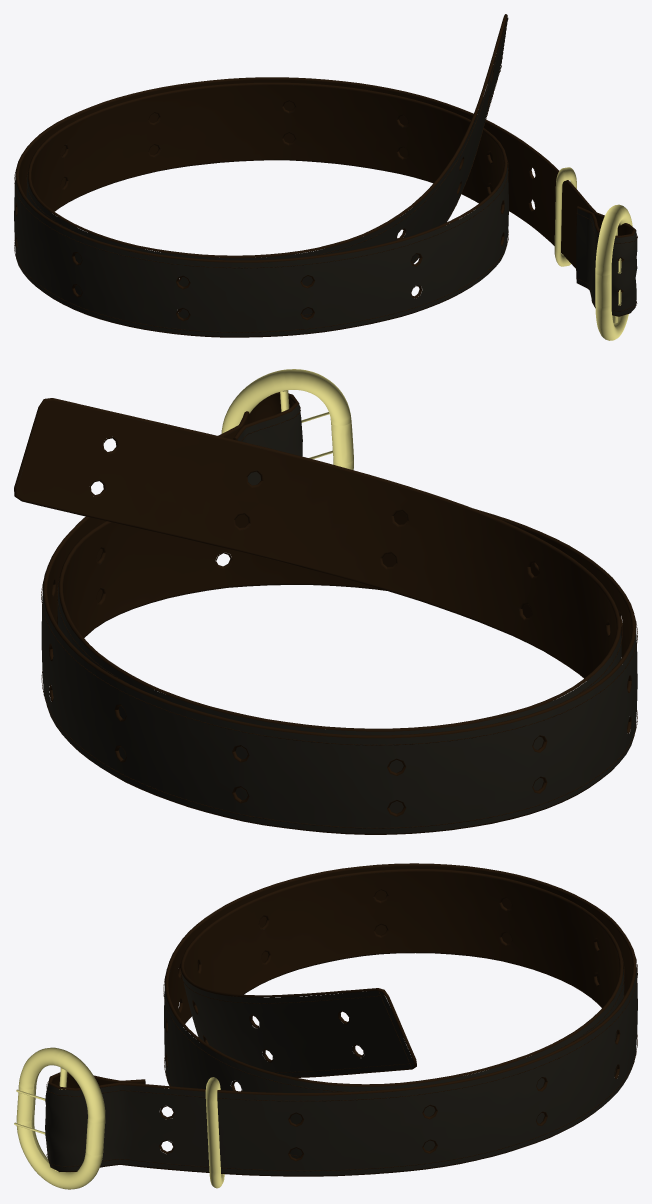
File: belt-transformed.glb
3 views of the same model, one above another, from view 1: azimuth 30°, elevation 25°; view 2: azimuth 150°, elevation 25°; view 3: azimuth 270°, elevation 25° (orthographic). The views are drawn at different scales.
Parts seen in each view (by area): view 1: Object_3, Object_2, Object_4, Object_8, Object_5, Object_7; view 2: Object_2, Object_3, Object_4, Object_8, Object_5; view 3: Object_3, Object_2, Object_4, Object_8, Object_5, Object_7.
Boxes of the visible parts, bbox=[...] form: Object_3: bbox=[14, 17, 637, 336]; Object_2: bbox=[18, 80, 632, 267]; Object_4: bbox=[15, 14, 635, 337]; Object_8: bbox=[595, 204, 632, 340]; Object_5: bbox=[14, 18, 637, 332]; Object_7: bbox=[554, 167, 576, 266]; Object_2: bbox=[17, 394, 631, 685]; Object_3: bbox=[17, 404, 637, 833]; Object_4: bbox=[14, 392, 636, 834]; Object_8: bbox=[221, 369, 353, 470]; Object_5: bbox=[41, 406, 637, 828]; Object_3: bbox=[45, 872, 637, 1175]; Object_2: bbox=[52, 866, 632, 1088]; Object_4: bbox=[48, 863, 636, 1176]; Object_8: bbox=[14, 1047, 105, 1189]; Object_5: bbox=[46, 958, 637, 1171]; Object_7: bbox=[205, 1077, 224, 1188].
Bounding box in the file's own units: 0.4358 × 0.1828 × 0.4739.
